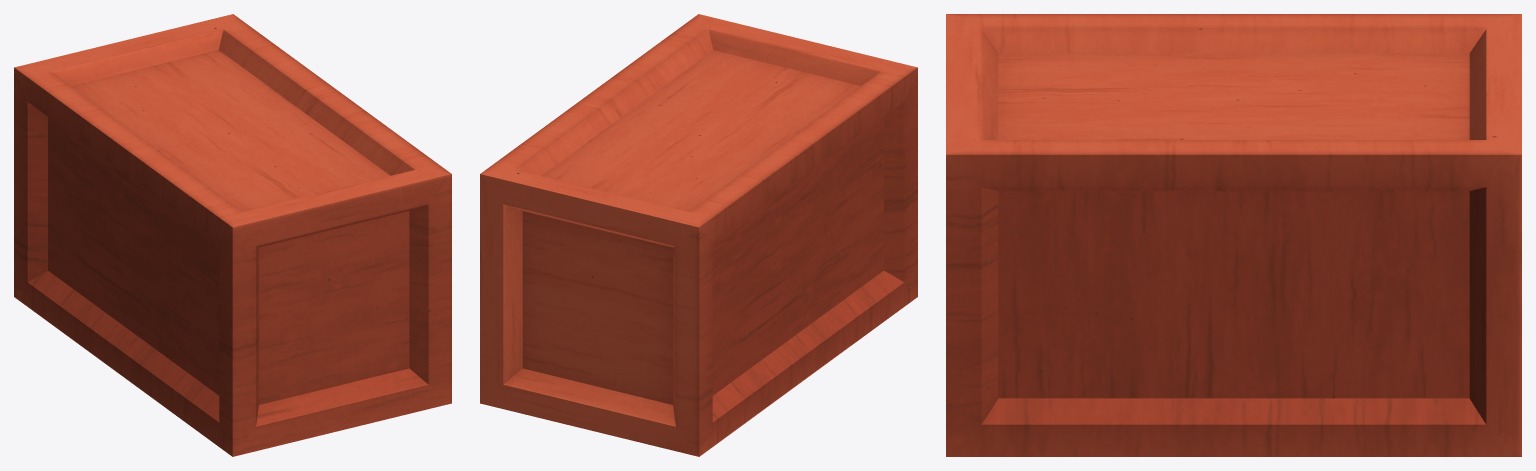
The model's file is woodBox02_03.fbx.
3 renders of one model, left to right at view 1: azimuth 30°, elevation 25°; view 2: azimuth 150°, elevation 25°; view 3: azimuth 270°, elevation 25°, orthographic. The views are drawn at different scales.
Parts seen in each view (by area): view 1: polySurface182; view 2: polySurface182; view 3: polySurface182.
Part boxes in pixels (x1,y1,x2,y2): polySurface182: (14, 14, 451, 456); polySurface182: (480, 14, 917, 456); polySurface182: (946, 14, 1521, 456).
Size of the model in its own units: 10.09 by 10.09 by 17.42.
Materials: 1 (1 with a texture image).
